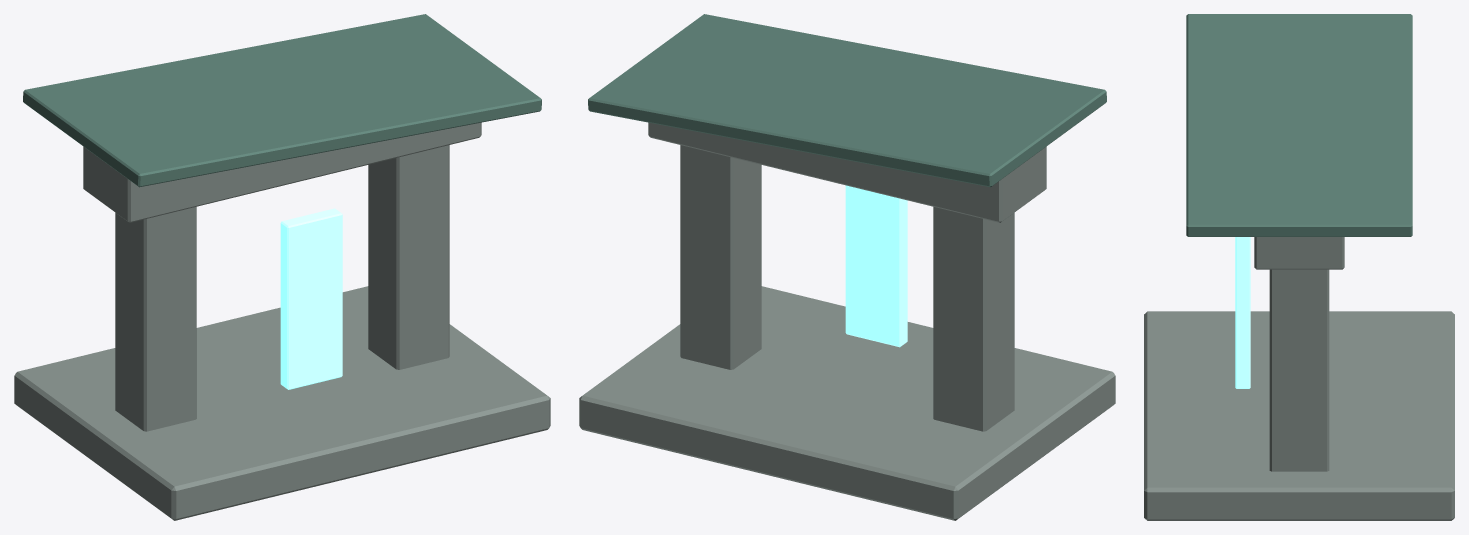
File: LumenStoneShrine.glb
The picture shows the model from 3 angles, left to right: view 1: azimuth 30°, elevation 25°; view 2: azimuth 150°, elevation 25°; view 3: azimuth 270°, elevation 25°; orthographic projection. The views are drawn at different scales.
Visible parts, largest first — view 1: LumenStoneShrine; view 2: LumenStoneShrine; view 3: LumenStoneShrine.
Part boxes in pixels (<box>): LumenStoneShrine: <box>14,14,550,520</box>; LumenStoneShrine: <box>579,14,1115,520</box>; LumenStoneShrine: <box>1144,14,1454,520</box>.
Size of the model in its own units: 16 by 12.67 by 11.
